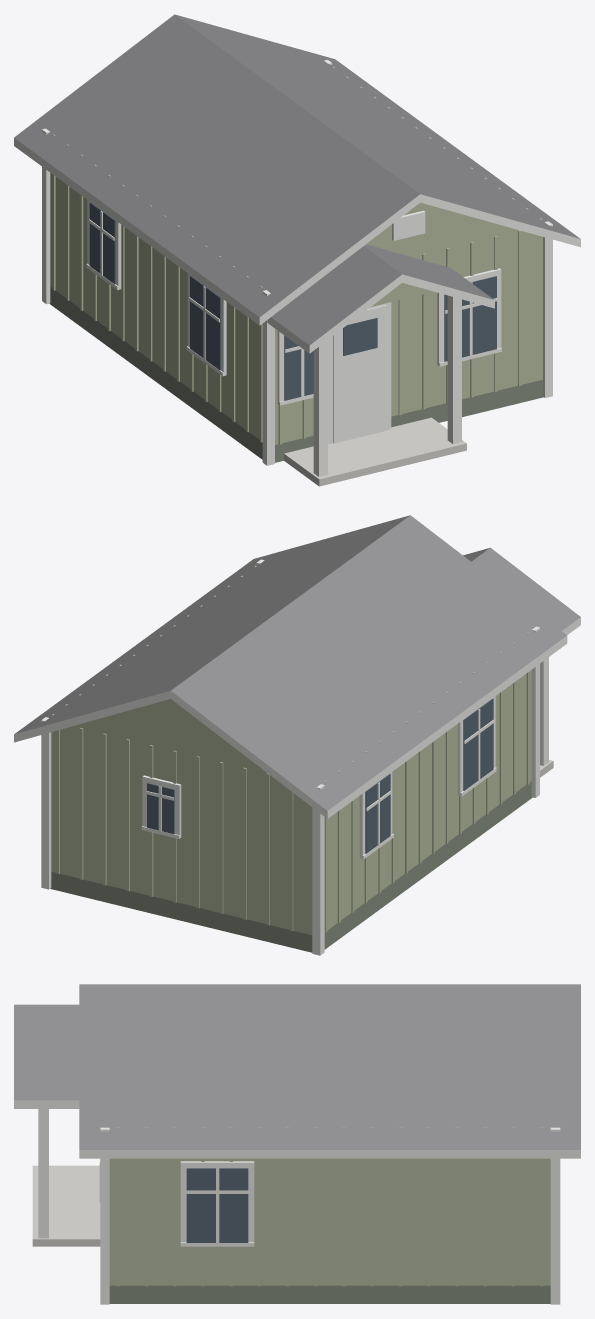
Rendered from apricot-sage.glb.
3 views of the same model, one above another, from view 1: azimuth 30°, elevation 25°; view 2: azimuth 150°, elevation 25°; view 3: azimuth 270°, elevation 25° (orthographic). The views are drawn at different scales.
Parts seen in each view (by area): view 1: The Apricot (sage); view 2: The Apricot (sage); view 3: The Apricot (sage).
Boxes of the visible parts, left/top/right/bottom form: The Apricot (sage): left=14, top=14, right=580, bottom=486; The Apricot (sage): left=14, top=515, right=580, bottom=955; The Apricot (sage): left=14, top=984, right=580, bottom=1304.
Size of the model in its own units: 5.64 by 4.11 by 8.44.
